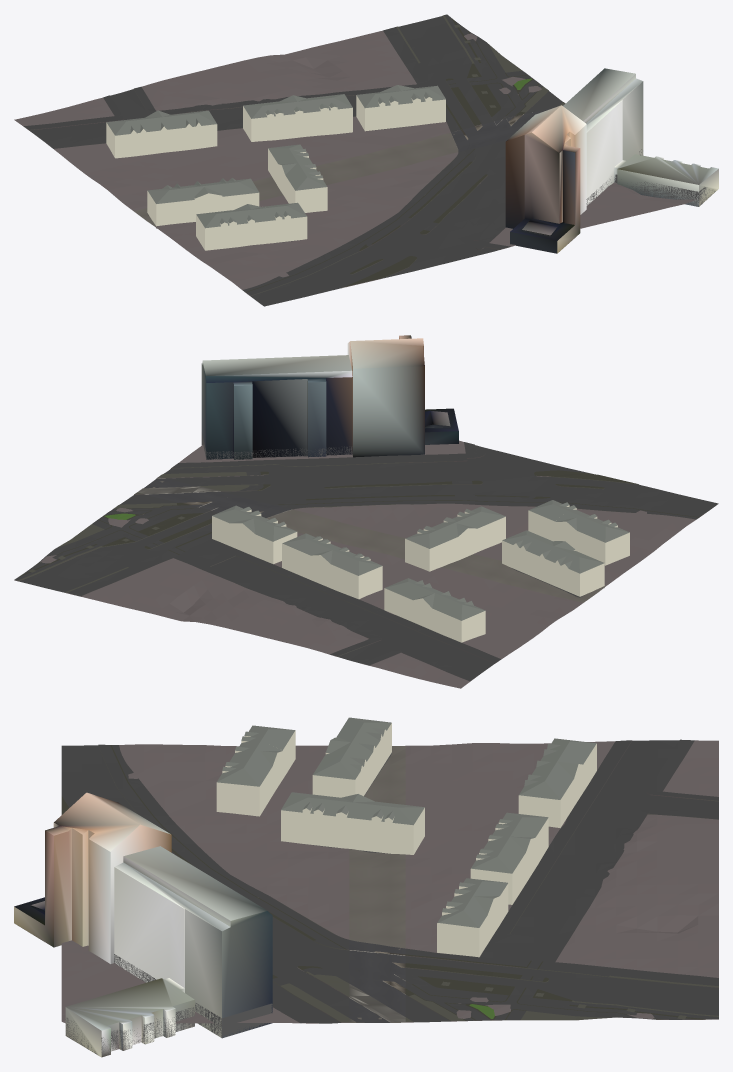
3 views of the same model, one above another, from view 1: azimuth 30°, elevation 25°; view 2: azimuth 150°, elevation 25°; view 3: azimuth 270°, elevation 25° (orthographic). The views are drawn at different scales.
Parts seen in each view (by area): view 1: append:c_m12_p03, c_m12_p03; view 2: append:c_m12_p03, c_m12_p03; view 3: append:c_m12_p03, c_m12_p03.
Part boxes in pixels (<box>): append:c_m12_p03: <box>14,14,586,253</box>; c_m12_p03: <box>133,68,718,306</box>; append:c_m12_p03: <box>14,335,629,688</box>; c_m12_p03: <box>137,355,718,602</box>; append:c_m12_p03: <box>14,717,718,1022</box>; c_m12_p03: <box>61,744,405,1057</box>.
Bounding box in the file's own units: 139 × 30.59 × 137.
